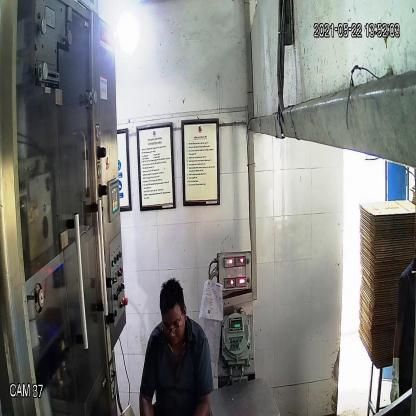goggles: (159, 316, 183, 340)
